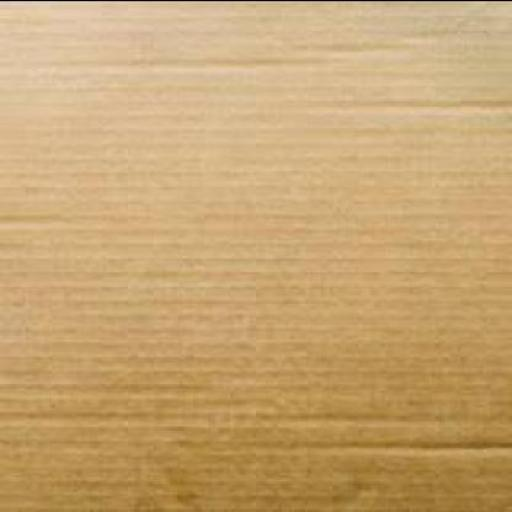cardboard: (0, 1, 511, 511)
